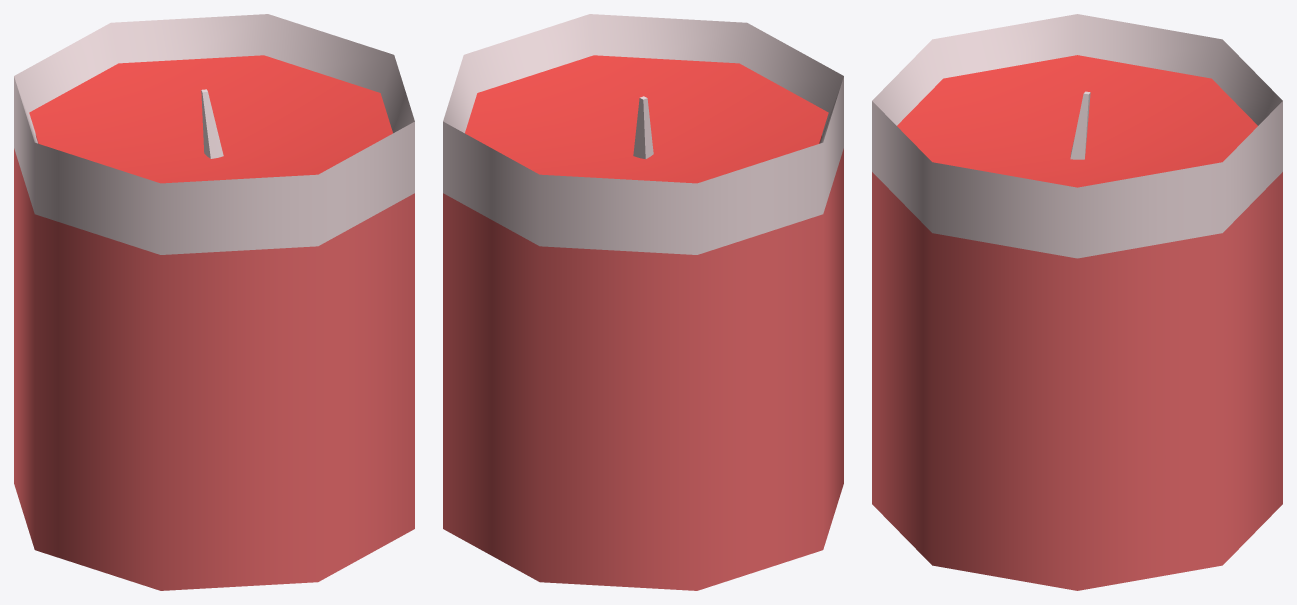
File: prop_007.glb
3 views of the same model, side by side, from view 1: azimuth 30°, elevation 25°; view 2: azimuth 150°, elevation 25°; view 3: azimuth 270°, elevation 25° (orthographic).
Visible parts, largest first — view 1: prop_007; view 2: prop_007; view 3: prop_007.
Part boxes in pixels (<box>): prop_007: <box>14,14,414,590</box>; prop_007: <box>443,14,843,590</box>; prop_007: <box>872,14,1282,590</box>.
Bounding box in the file's own units: 0.0908 × 0.0997 × 0.0908.
Materials: 1 (1 with a texture image).
